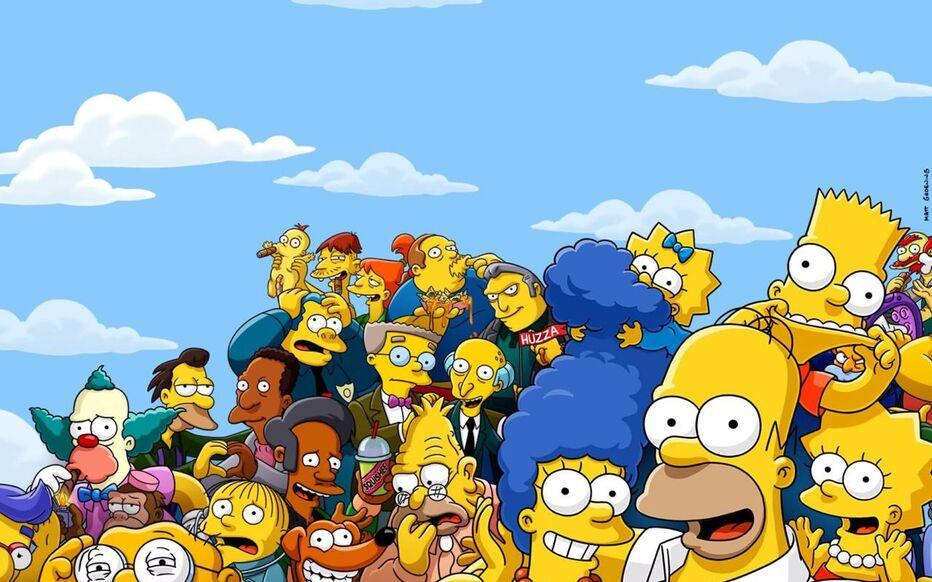Bart: (777, 172, 917, 419)
Homer: (644, 302, 808, 582)
Lisa: (780, 374, 928, 580)
Maggie: (620, 202, 730, 351)
Marge: (486, 237, 650, 582)
